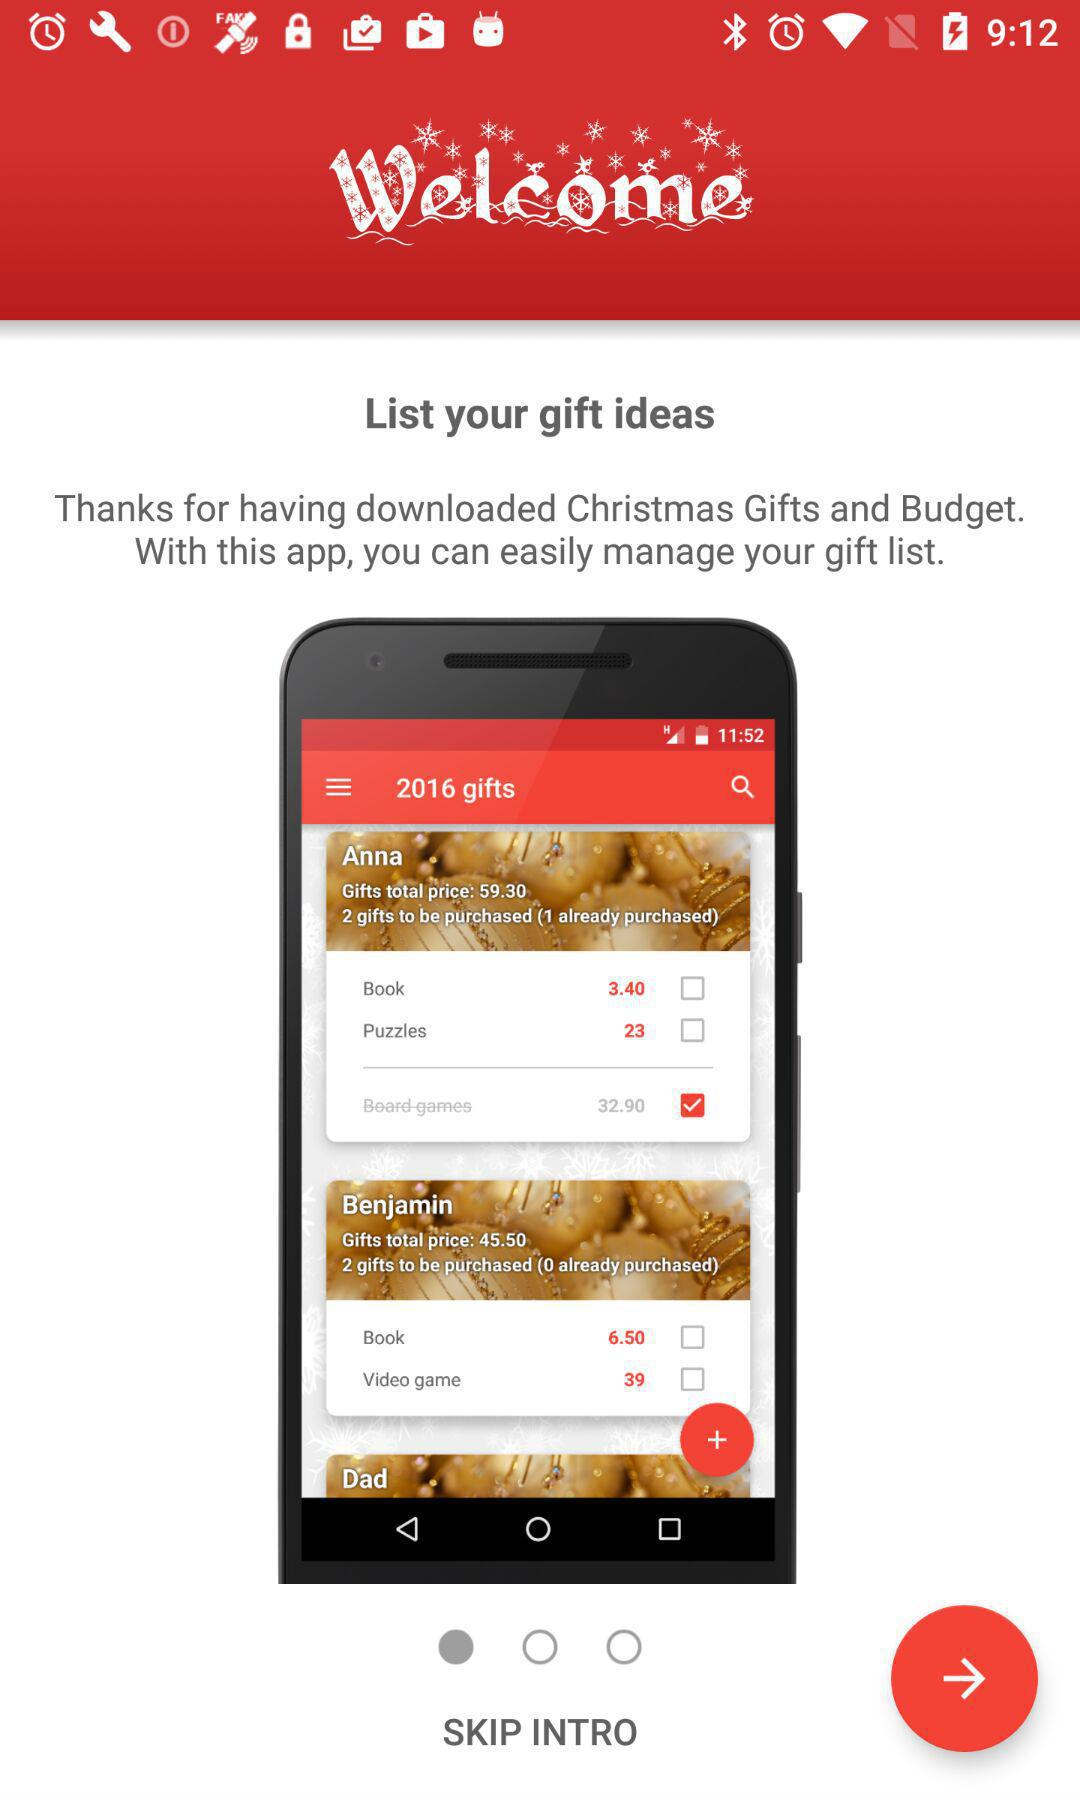Icon: (888, 1604, 1040, 1754)
Image: (278, 616, 805, 1585), (328, 114, 756, 247)
PageIndicator: (437, 1627, 644, 1667)
Text: (53, 492, 1025, 574), (366, 393, 715, 440), (442, 1716, 639, 1748)
UpperTaskBar: (1, 1, 1080, 64)
